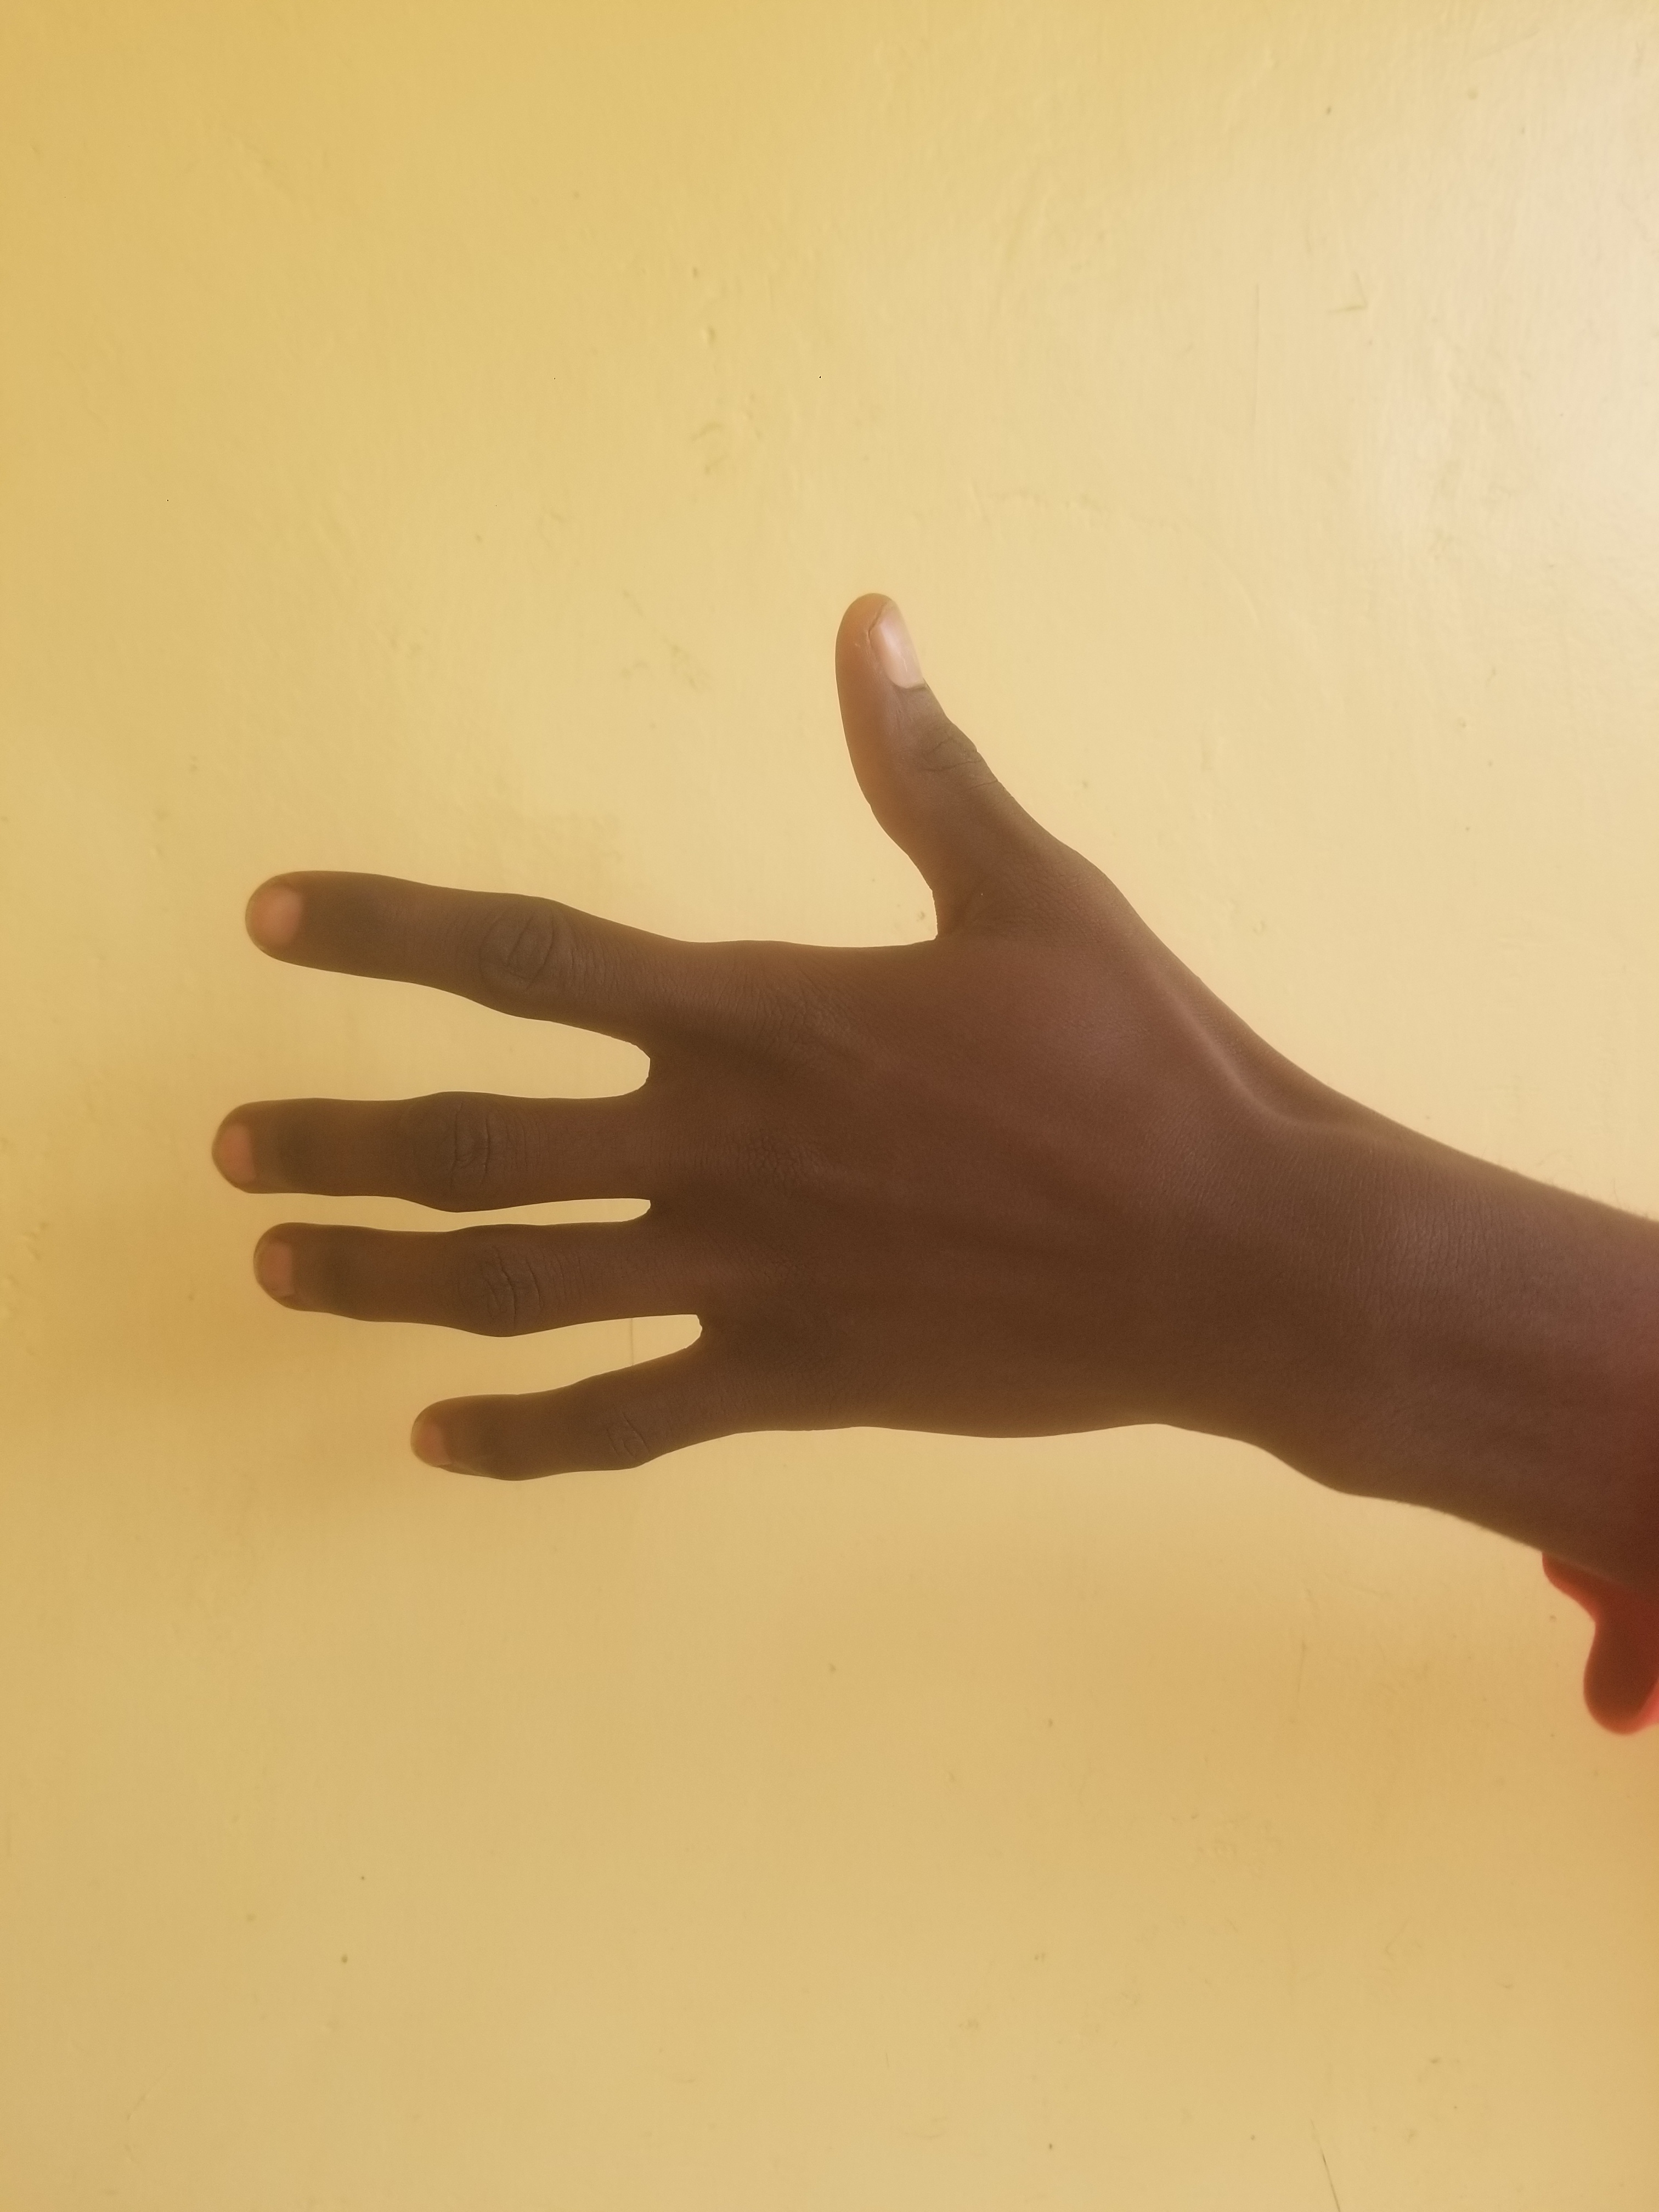open palm: (173, 277, 1392, 1905)
